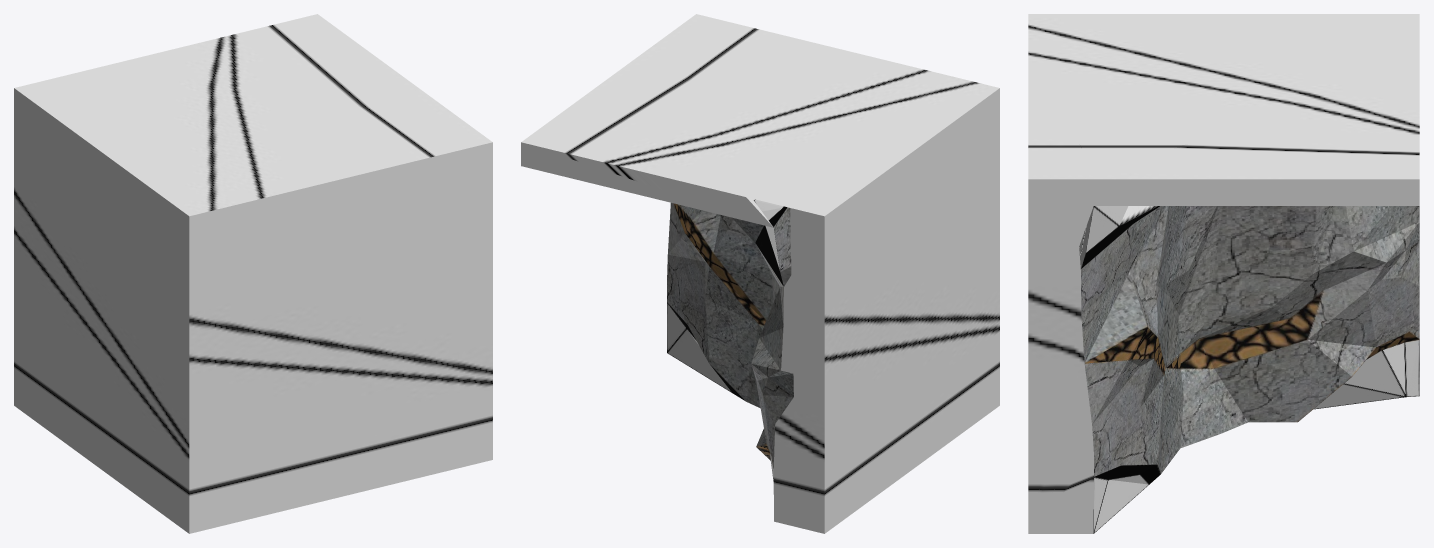
The model's file is EspacioPirateriaEsquinaCierreInteriorBajoNI.gltf.
The picture shows the model from 3 angles, left to right: view 1: azimuth 30°, elevation 25°; view 2: azimuth 150°, elevation 25°; view 3: azimuth 270°, elevation 25°; orthographic projection. The views are drawn at different scales.
Visible parts, largest first — view 1: Cubo.1; view 2: Cubo.1; view 3: Cubo.1.
Boxes of the visible parts, x1,y1,x2,y2 form: Cubo.1: (14, 14, 492, 533); Cubo.1: (521, 14, 999, 533); Cubo.1: (1028, 14, 1419, 533).
Bounding box in the file's own units: 2 × 2 × 2.
Materials: 1 (1 with a texture image).
